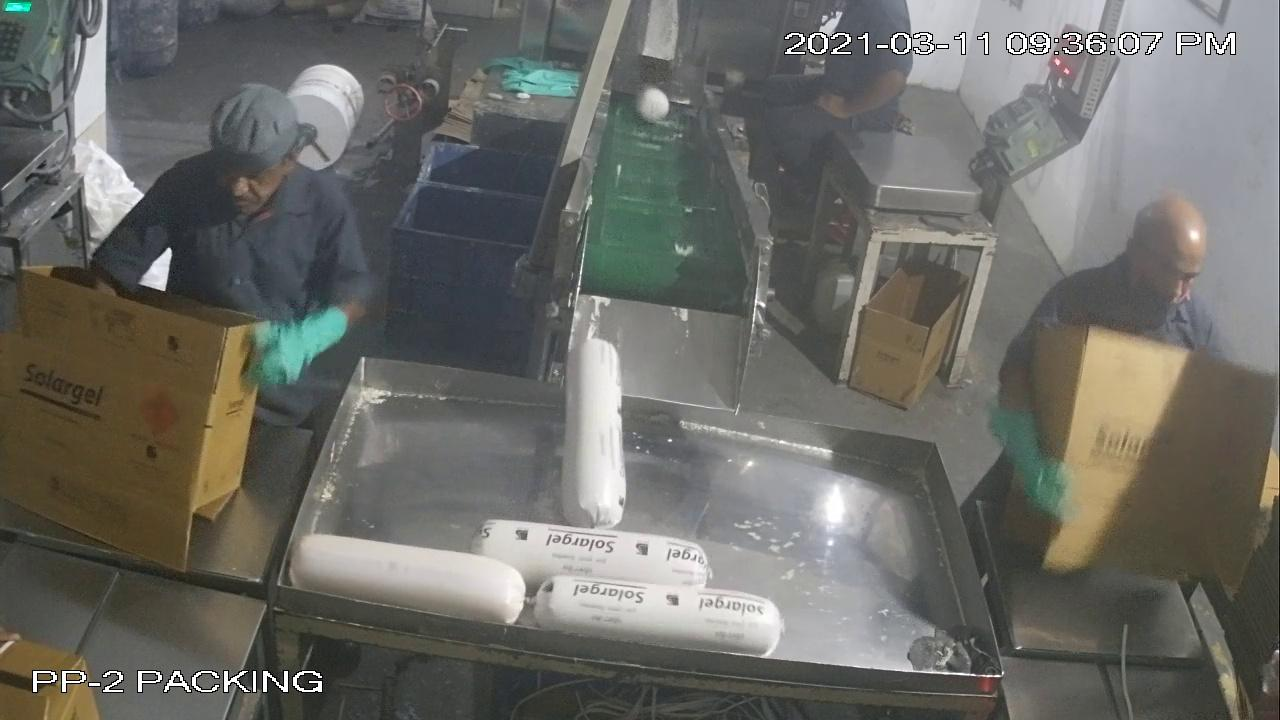Gloves: (980, 374, 1086, 528), (231, 282, 360, 408)
No-gloves: (813, 63, 919, 135)
